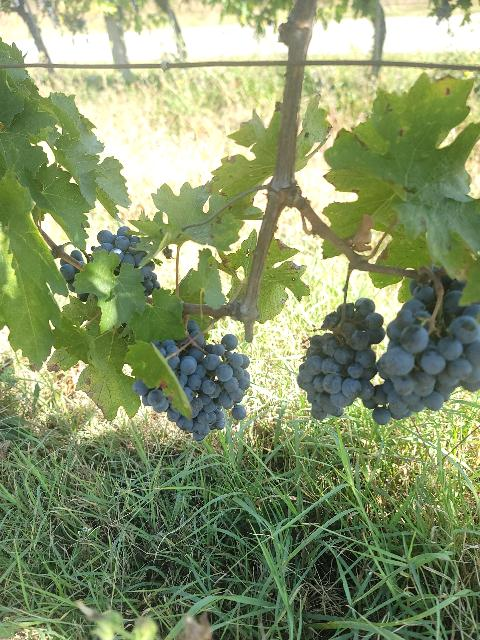grapes: (372, 282, 480, 424), (132, 335, 250, 440), (298, 298, 385, 420), (91, 226, 161, 296)
